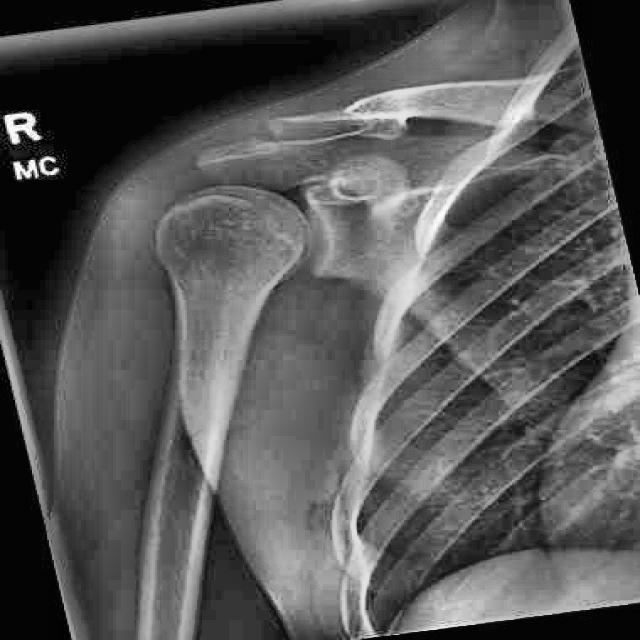shoulder fracture: (323, 72, 432, 160)
